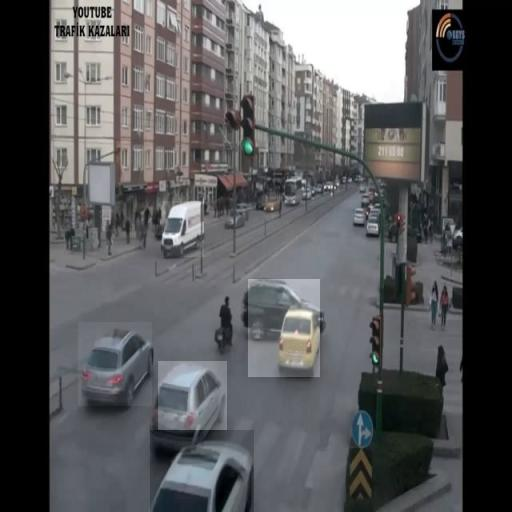小汽车: (150, 430, 254, 512), (78, 322, 152, 406), (158, 361, 227, 447), (162, 201, 204, 257)
小汽车撞小汽车: (248, 279, 320, 377)
自行车: (216, 292, 234, 352)
